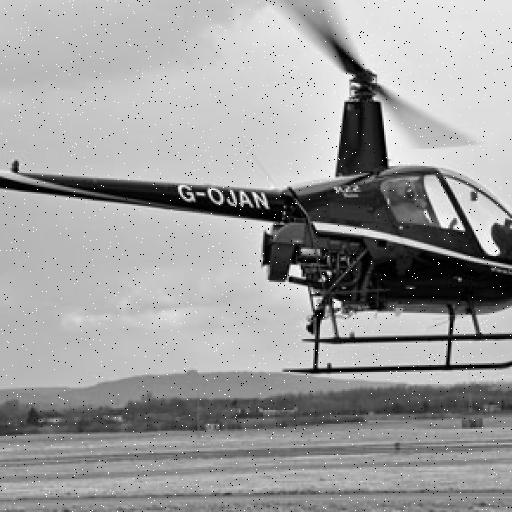helicopter: (1, 1, 512, 387)
